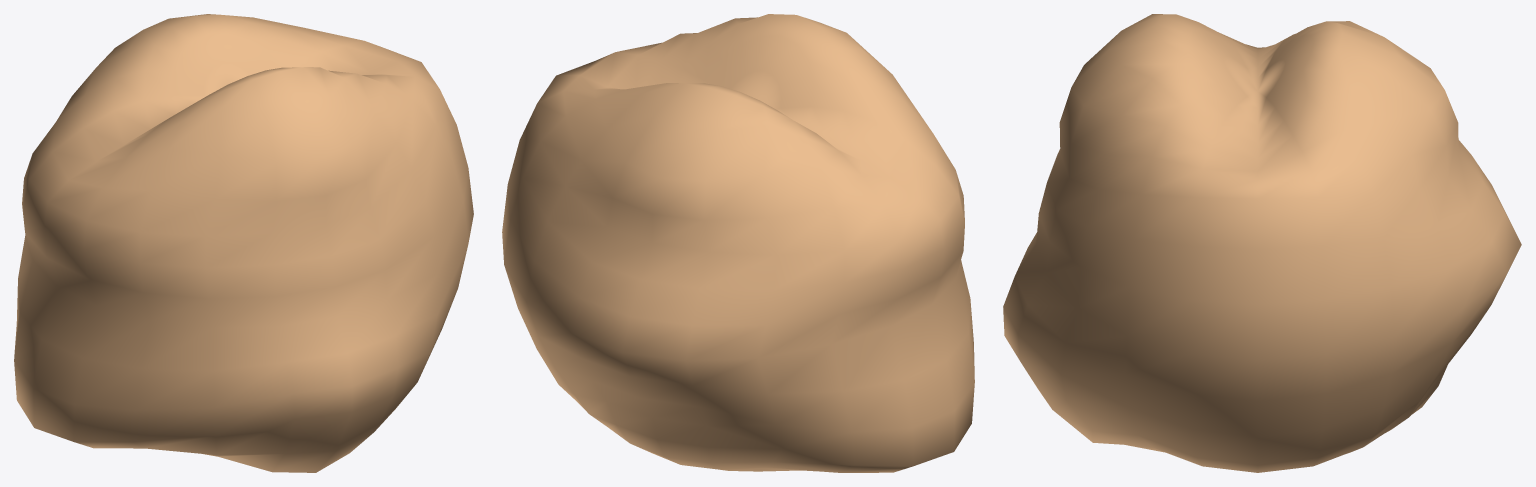
File: CrumbMedium2.fbx
3 renders of one model, left to right at view 1: azimuth 30°, elevation 25°; view 2: azimuth 150°, elevation 25°; view 3: azimuth 270°, elevation 25°, orthographic. The views are drawn at different scales.
Parts seen in each view (by area): view 1: pSphere2; view 2: pSphere2; view 3: pSphere2.
Boxes of the visible parts, x1,y1,x2,y2 form: pSphere2: [14, 14, 473, 472]; pSphere2: [502, 14, 974, 472]; pSphere2: [1003, 14, 1521, 472].
Bounding box in the file's own units: 1.18 × 1.05 × 1.17.
